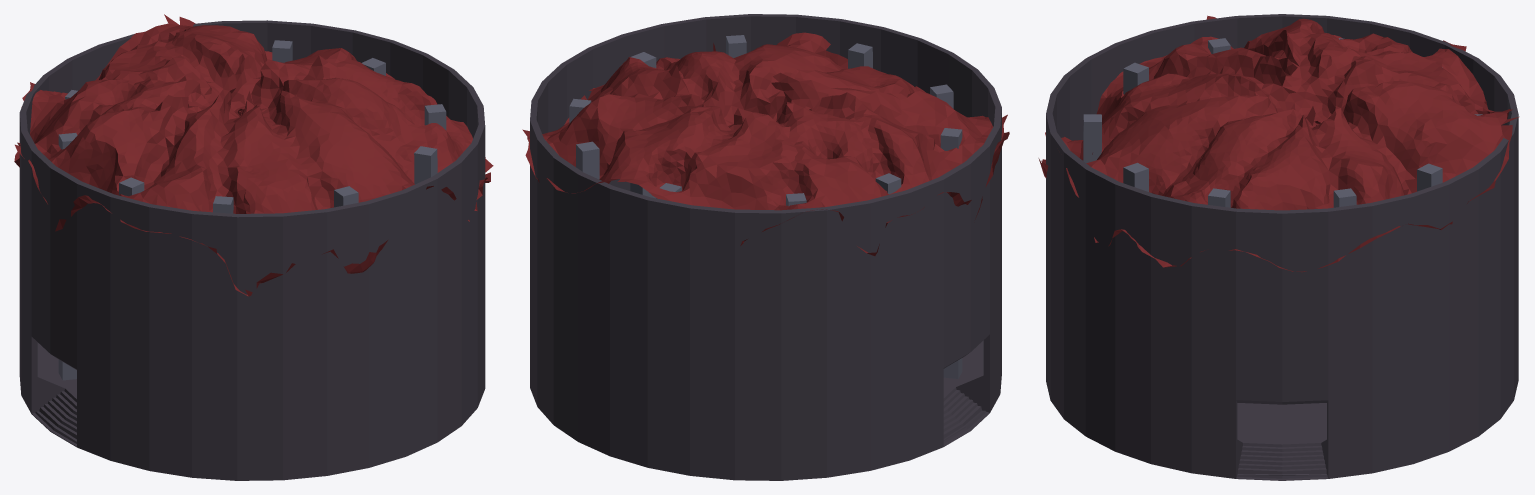
File: ArenaBlockout.fbx
The picture shows the model from 3 angles, left to right: view 1: azimuth 30°, elevation 25°; view 2: azimuth 150°, elevation 25°; view 3: azimuth 270°, elevation 25°; orthographic projection.
Parts seen in each view (by area): view 1: Cylinder.002, Cylinder.003, Cube.009; view 2: Cylinder.002, Cylinder.003, Cube.009; view 3: Cylinder.002, Cylinder.003, Cube.009.
Part boxes in pixels (x1,y1,x2,y2): Cylinder.002: (19, 20, 485, 480); Cylinder.003: (14, 14, 493, 296); Cube.009: (58, 40, 446, 380); Cylinder.002: (530, 14, 1001, 480); Cylinder.003: (522, 32, 1009, 255); Cube.009: (569, 35, 962, 378); Cylinder.002: (1046, 14, 1518, 480); Cylinder.003: (1038, 15, 1519, 272); Cube.009: (1083, 38, 1482, 207).
Size of the model in its own units: 17698 by 12689 by 17642.
